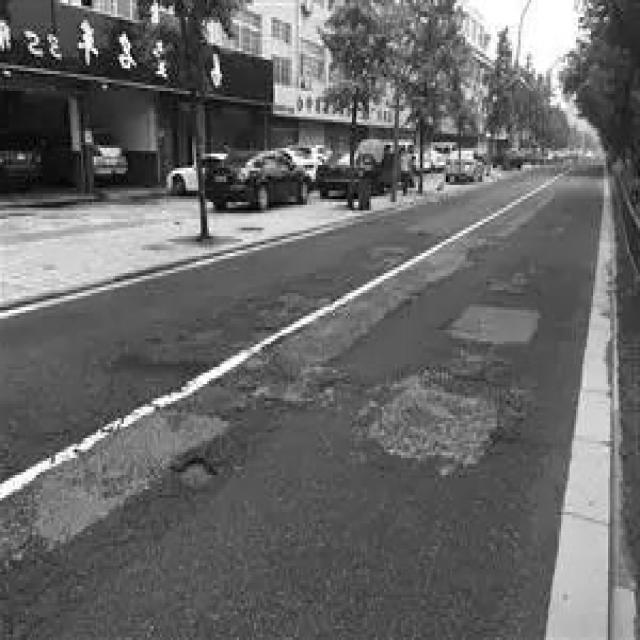pothole: (363, 370, 517, 470), (179, 456, 222, 484)
